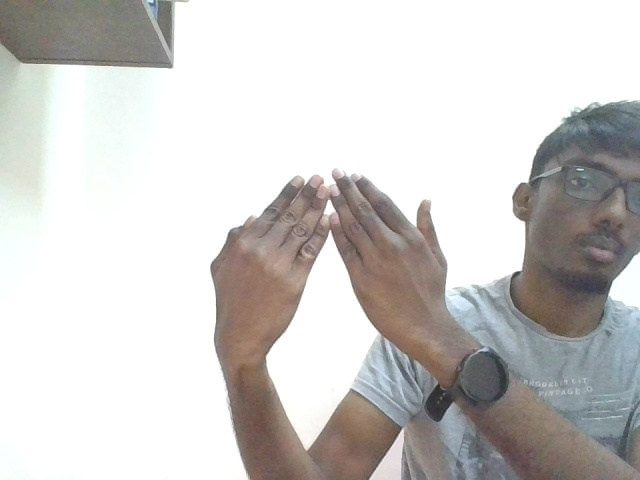Thank You: (238, 166, 443, 309)
